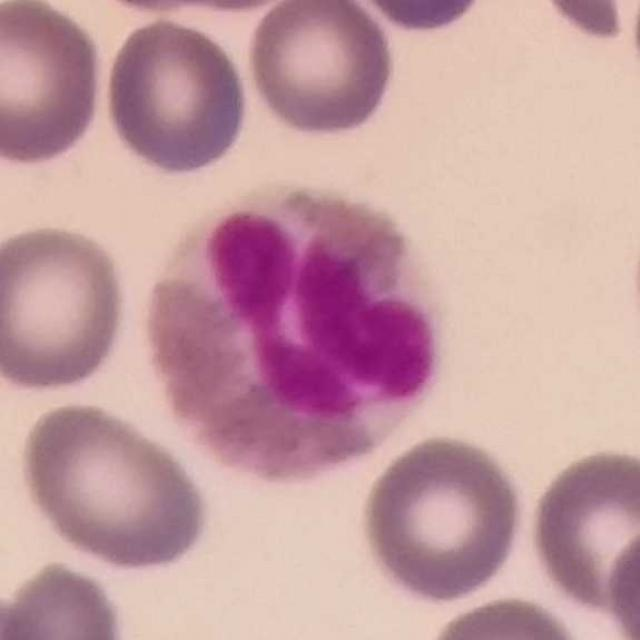eosino: (144, 185, 442, 485)
